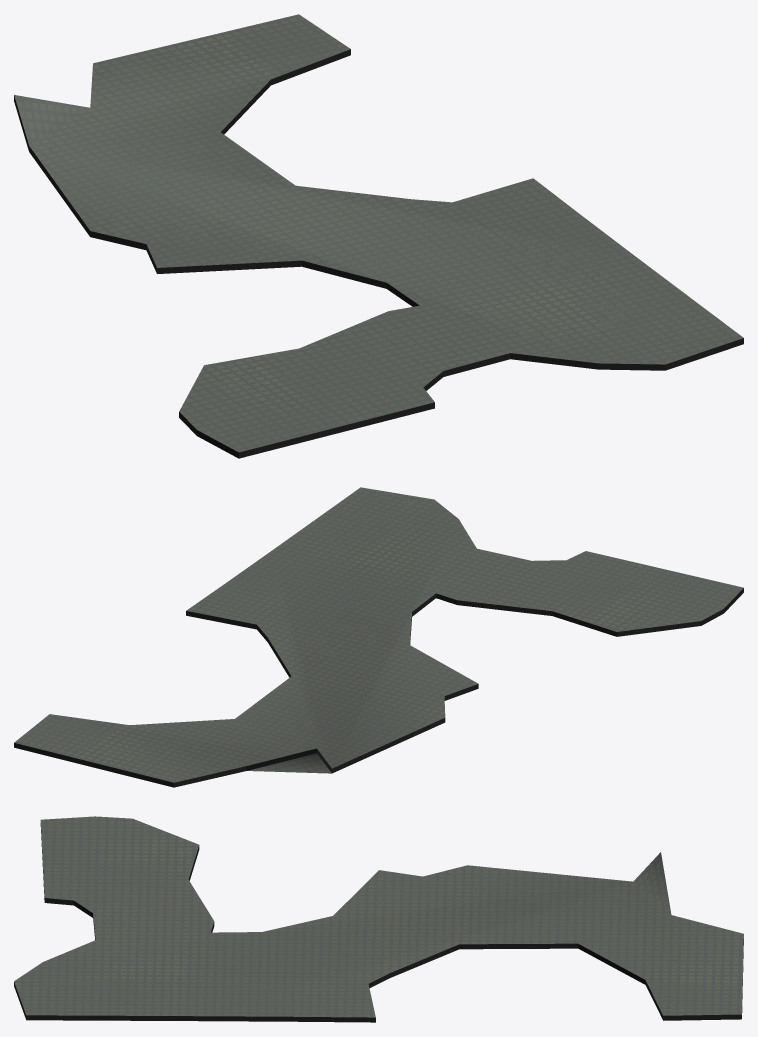
The model's file is Ground.fbx.
3 views of the same model, one above another, from view 1: azimuth 30°, elevation 25°; view 2: azimuth 150°, elevation 25°; view 3: azimuth 270°, elevation 25° (orthographic). The views are drawn at different scales.
Parts seen in each view (by area): view 1: FloorVariation1; view 2: FloorVariation1; view 3: FloorVariation1.
Boxes of the visible parts, x1,y1,x2,y2 form: FloorVariation1: (14, 14, 743, 458); FloorVariation1: (14, 487, 743, 787); FloorVariation1: (14, 816, 743, 1022).
Bounding box in the file's own units: 1780 × 147 × 2730.
